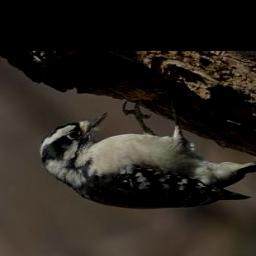Woodpecker: (41, 100, 256, 209)
